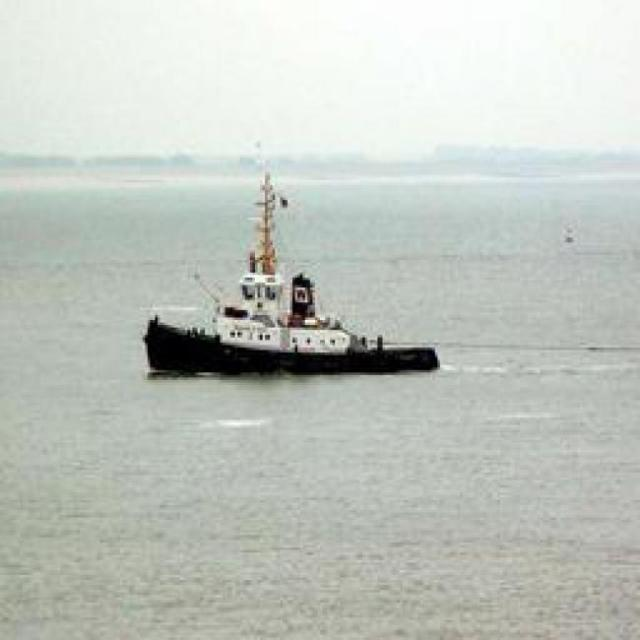boat: (123, 239, 450, 386)
